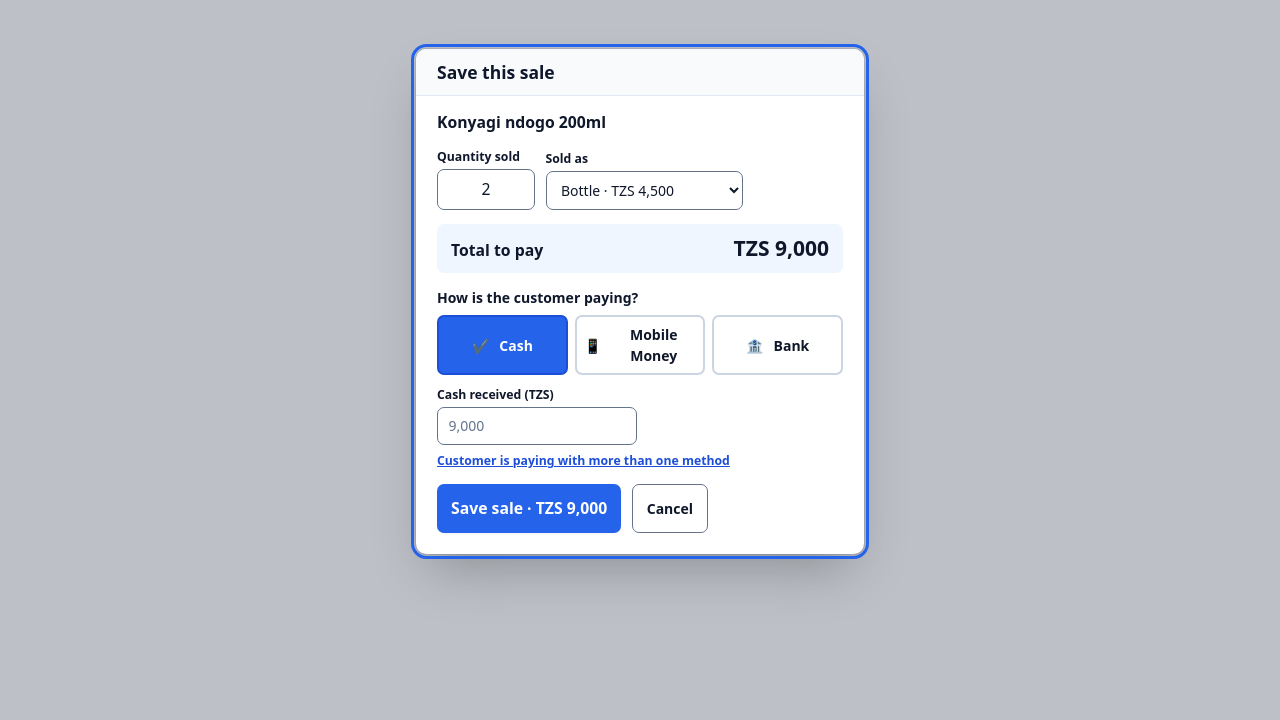
Test case: a sale typed on the Daily Sheet › shows the banks for Bank and forgets the provider when the category changes
Expected: the radio button labelled "✔ Cash" is shown, [437, 315, 568, 375]
Expected: the dropdown labelled "Sold as" is shown, [546, 171, 742, 210]
Click the radio button labelled "🏦 Bank".
click(778, 345)  # box [712, 315, 843, 375]
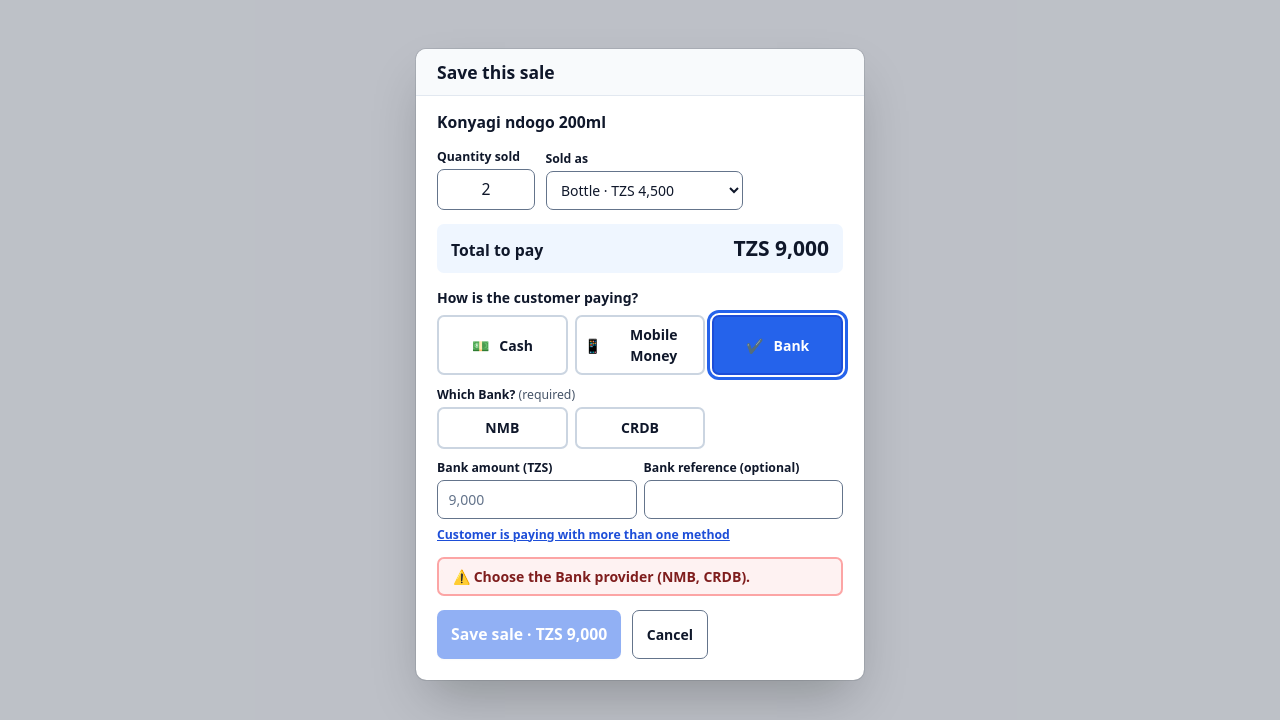
Click the radio button labelled "CRDB".
click(640, 428)  # box [575, 406, 705, 448]
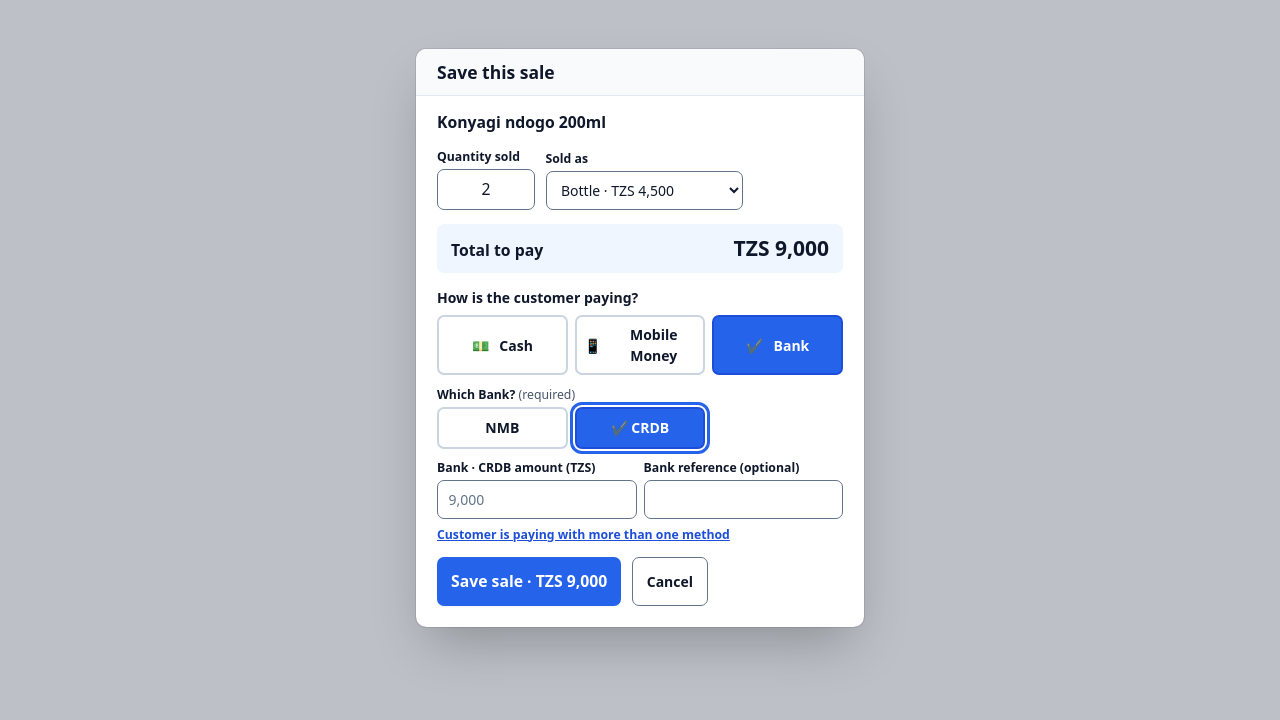
Click the radio button labelled "📱 Mobile Money".
click(640, 345)  # box [575, 315, 705, 375]
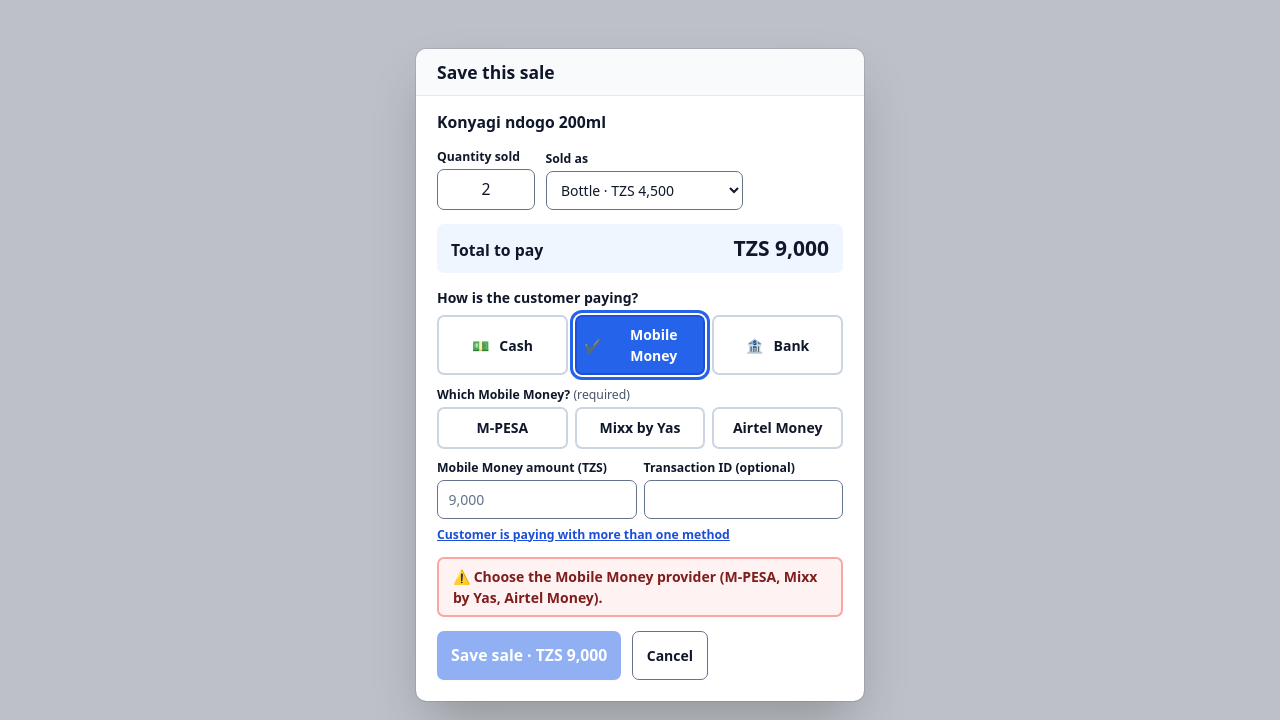
Result: the button "Save sale · TZS 9,000" is disabled at [437, 631, 621, 680]
Result: the radio button labelled "CRDB" is gone
